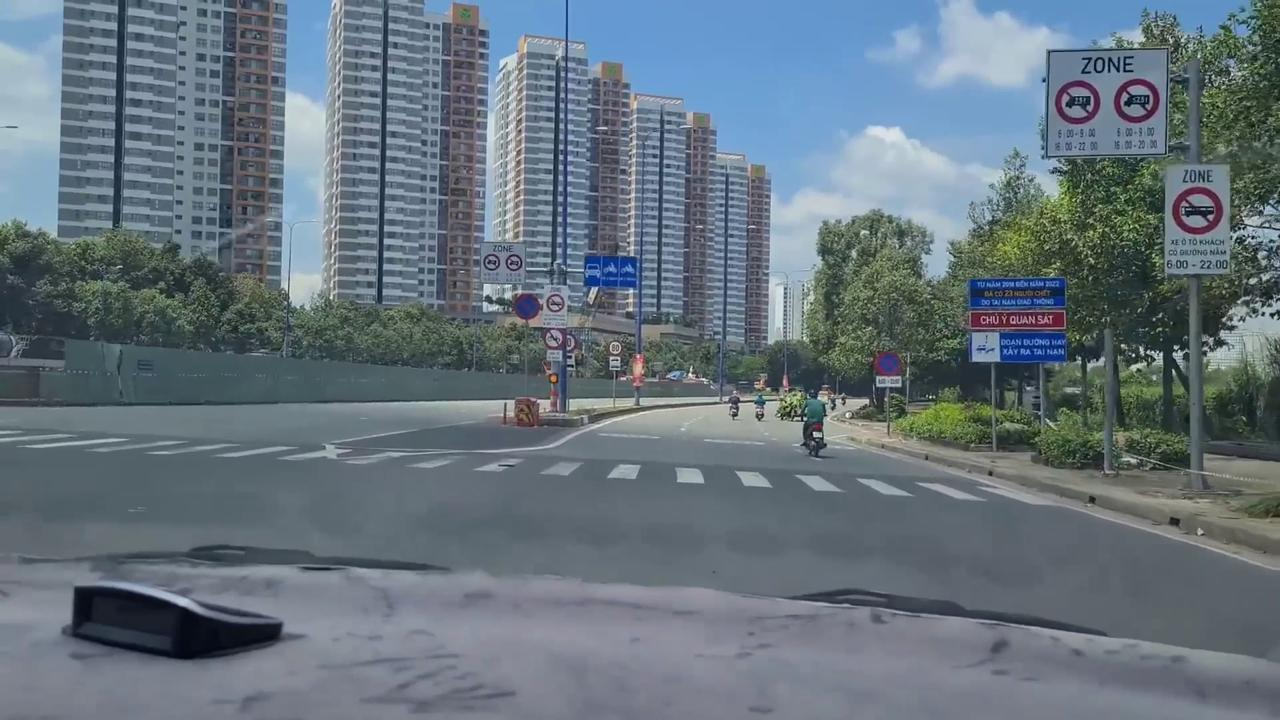Biển phụ: (609, 357, 621, 371)
Cấm cac phương tiện hoạt động trong khung giờ cố định: (1046, 48, 1168, 159), (1164, 163, 1231, 275), (479, 241, 527, 285), (543, 284, 568, 329)
Cấm dừng - Cấm đỗ: (513, 292, 540, 320), (875, 351, 901, 376)
Cấm xe máy: (543, 330, 565, 348)
Giới hạn tốc độ 80Km/h: (609, 340, 622, 354)
Khác: (969, 277, 1070, 364)
Làn đường cho từng xe: (582, 254, 638, 290)
